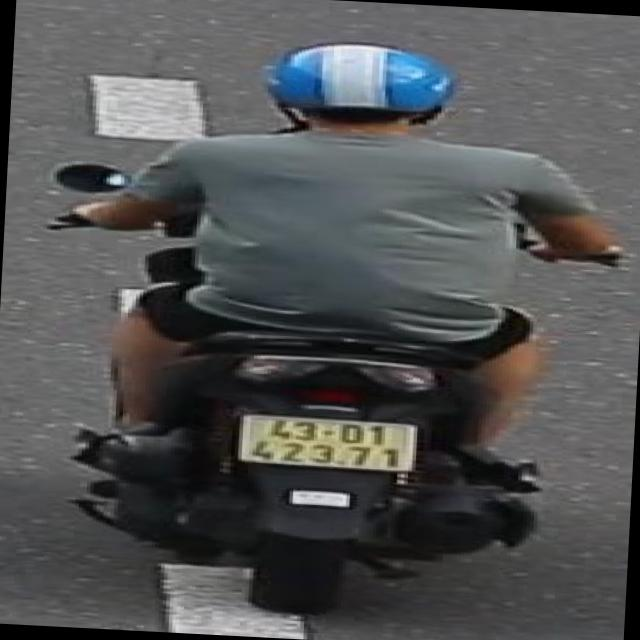LP: (232, 408, 427, 476)
helmet: (255, 34, 459, 151)
